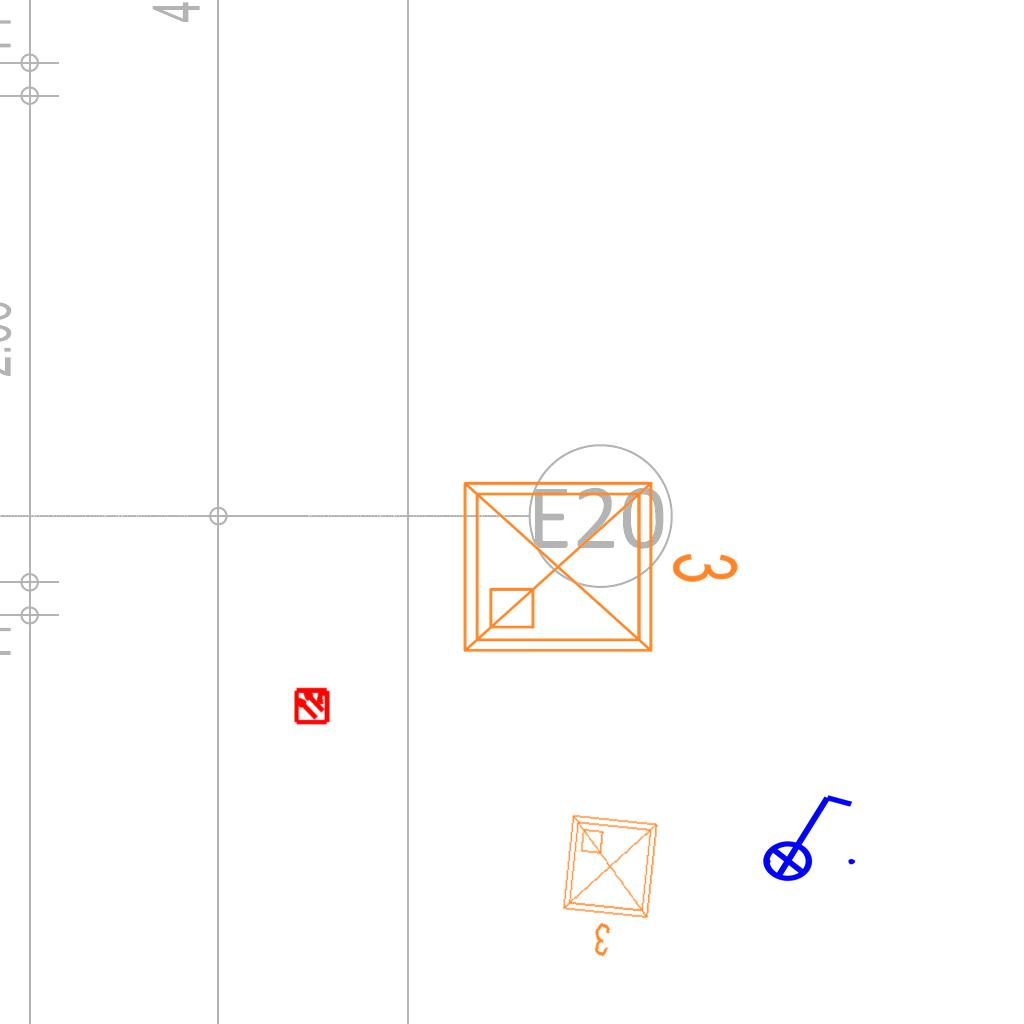Ausschalter_beleuchtet: (749, 787, 861, 883)
Einbaudownlights_LED_Konferenzraeume: (449, 459, 749, 667), (550, 806, 670, 968)
OT_Multisensormelder_(Kombination_RMO_WMD): (284, 677, 340, 733)
